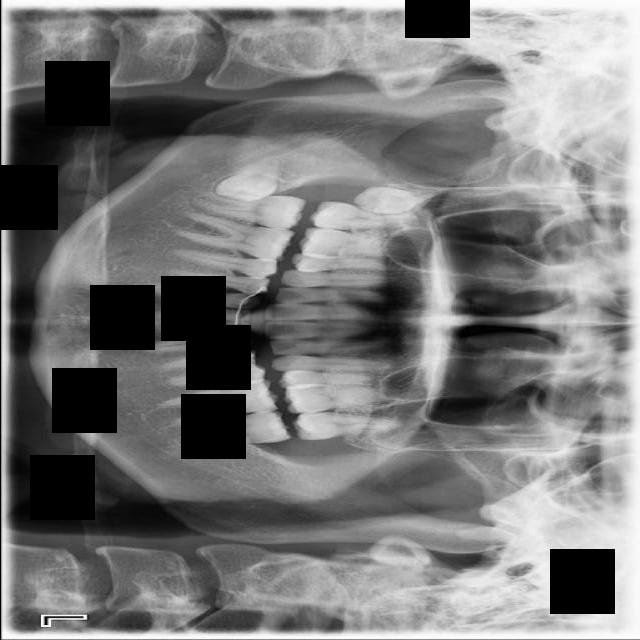3M ESPE Implant: (351, 183, 426, 219)
73: (54, 584, 68, 592)
BioHorizons Implant: (291, 412, 403, 440)
Blue Sky Bio Implant: (183, 407, 292, 452)
Caries: (307, 200, 418, 233)
Implant: (192, 190, 306, 232)
Keystone Dental Implant: (211, 151, 291, 218)
